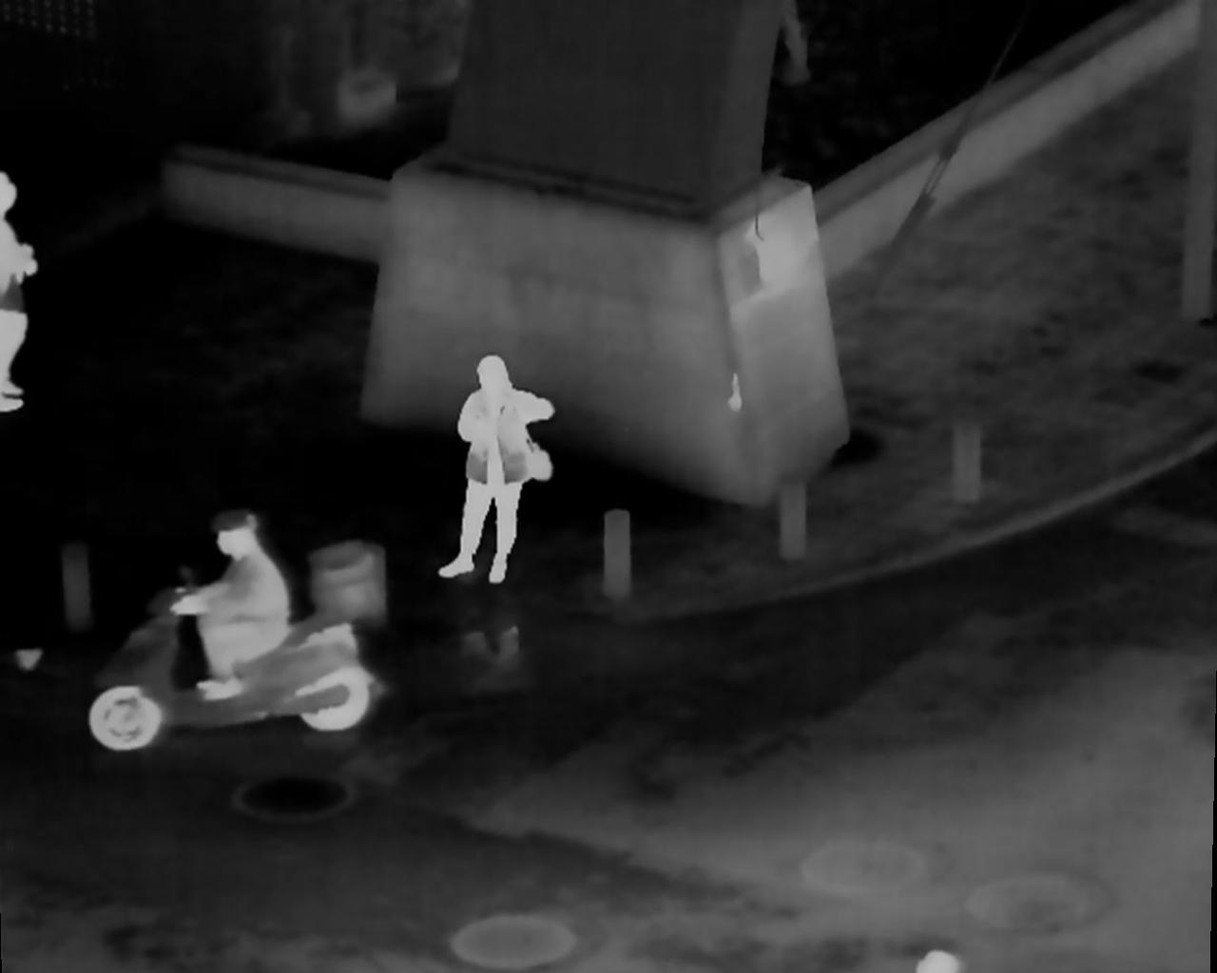person: (436, 355, 556, 586), (164, 512, 299, 704)
